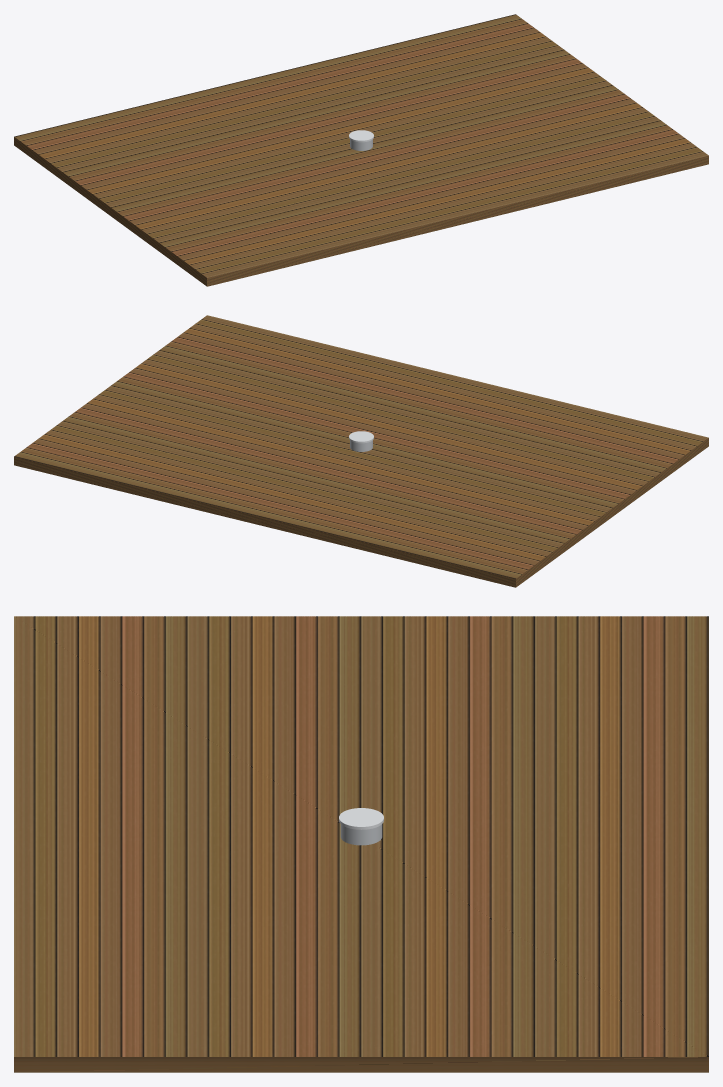
The model's file is knot-roundturn.glb.
3 views of the same model, one above another, from view 1: azimuth 30°, elevation 25°; view 2: azimuth 150°, elevation 25°; view 3: azimuth 270°, elevation 25° (orthographic). The views are drawn at different scales.
Bounding box in the file's own units: 2.4 × 0.0886 × 1.6.
3 materials, 1 textured.
